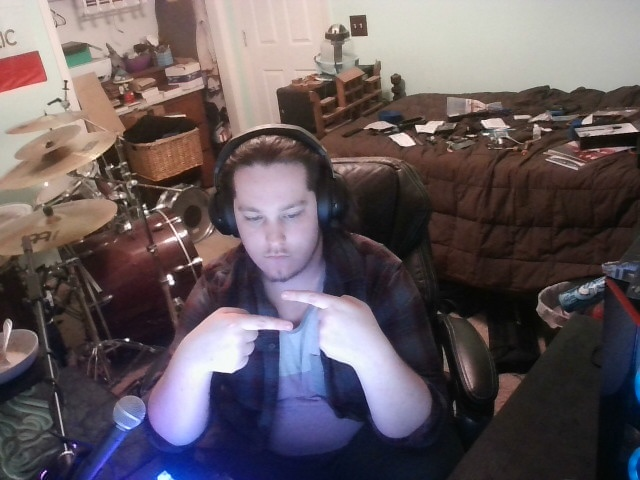go: (185, 283, 381, 390)
